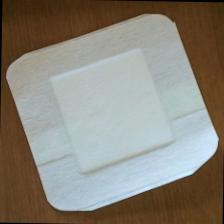Dressing: (2, 9, 223, 219)
